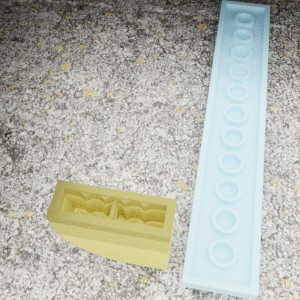lego: (180, 0, 270, 300), (45, 179, 176, 270)
